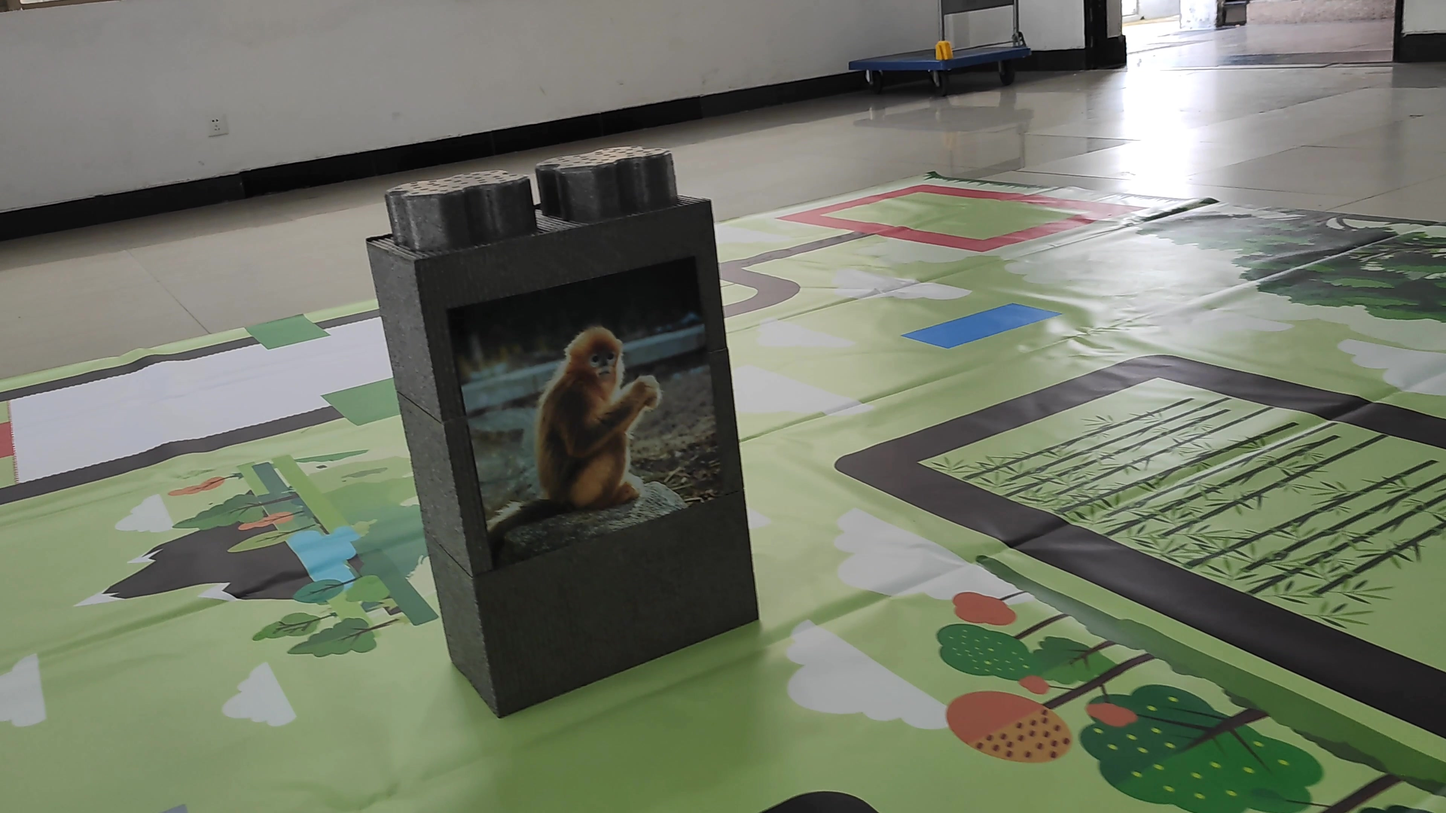monkey: (474, 318, 686, 548)
